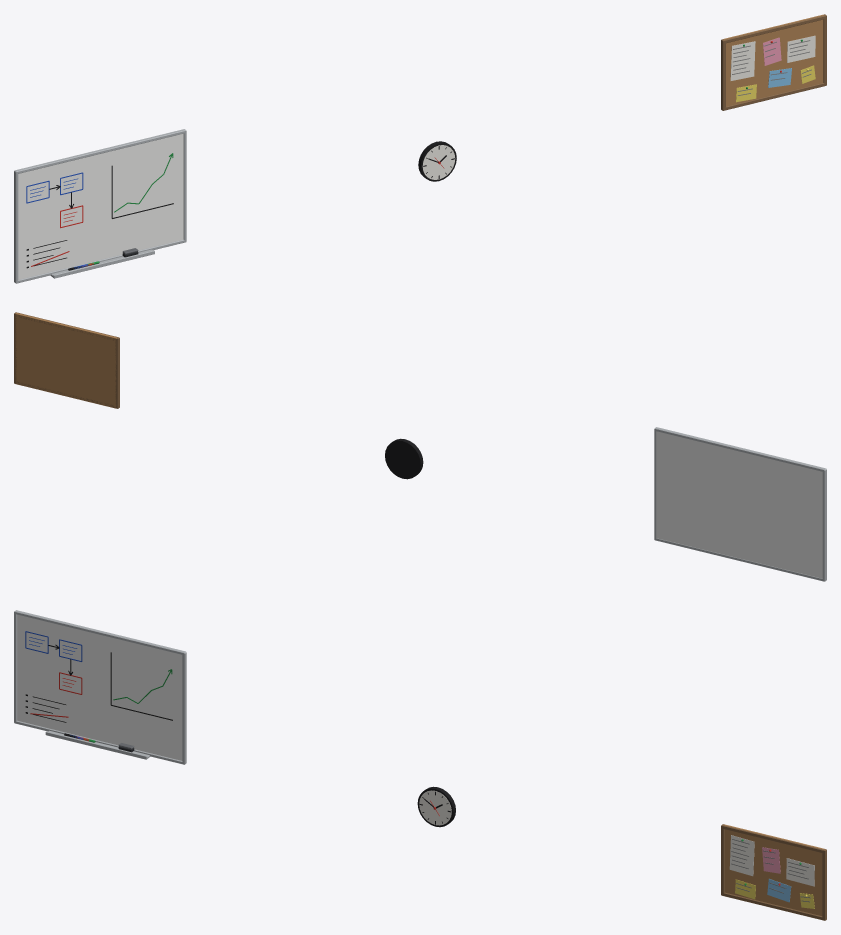
Rendered from OfficeWall.glb.
The picture shows the model from 3 angles, top to bottom: view 1: azimuth 30°, elevation 25°; view 2: azimuth 150°, elevation 25°; view 3: azimuth 330°, elevation 25°; orthographic projection.
Parts seen in each view (by area): view 1: Whiteboard, Noticeboard, Clock; view 2: Whiteboard, Noticeboard, Clock; view 3: Whiteboard, Noticeboard, Clock.
Boxes of the visible parts, x1,y1,x2,y2 form: Whiteboard: (14, 129, 186, 283); Noticeboard: (721, 14, 826, 110); Clock: (418, 141, 456, 181); Whiteboard: (654, 427, 826, 581); Noticeboard: (14, 312, 119, 408); Clock: (385, 438, 423, 479); Whiteboard: (14, 610, 186, 764); Noticeboard: (721, 824, 826, 920); Clock: (417, 786, 455, 827).
Size of the model in its own units: 36.14 by 4.81 by 0.415.
